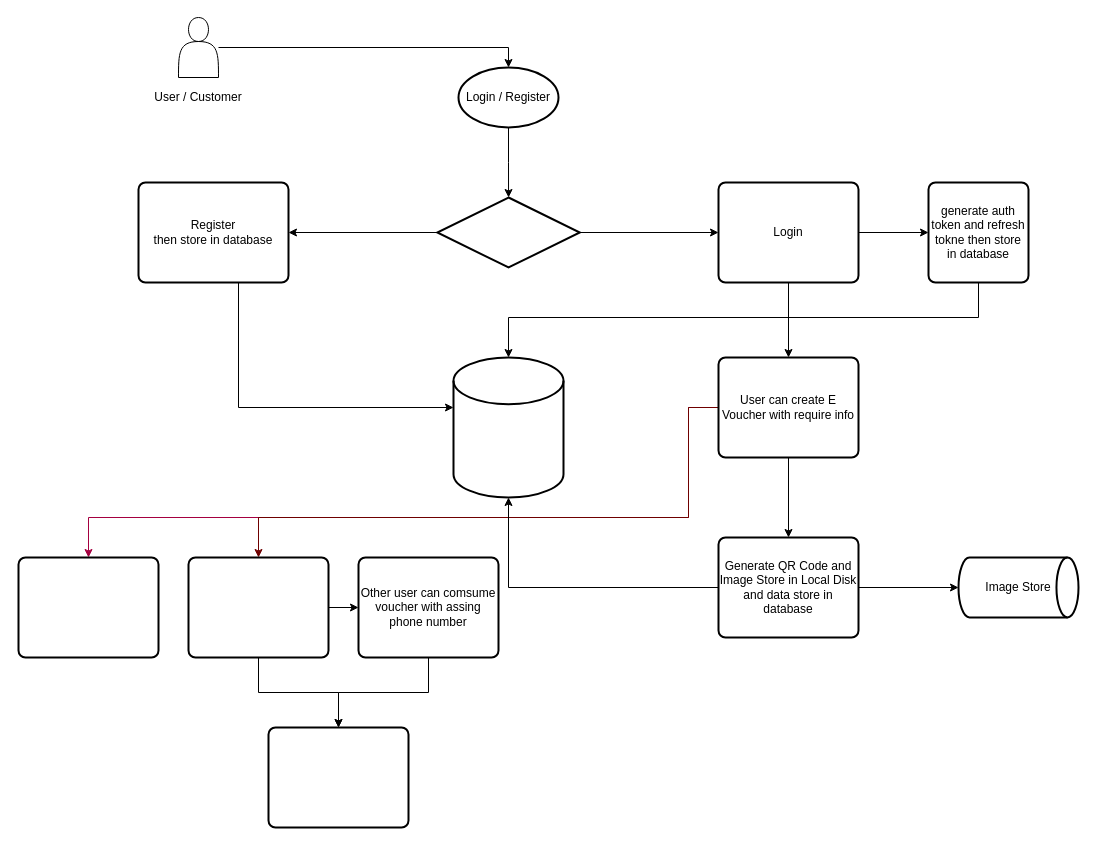
This 1096x846 diagram has some shape labels left out. Each missing label, with the centre of its shape:
"after comsume the voucher reducue max use count and generate promode code" belongs at point (338, 777).
"Database" belongs at point (508, 427).
"User can comsume created voucher" belongs at point (258, 607).
"User can get created voucher list by phone number" belongs at point (88, 607).
